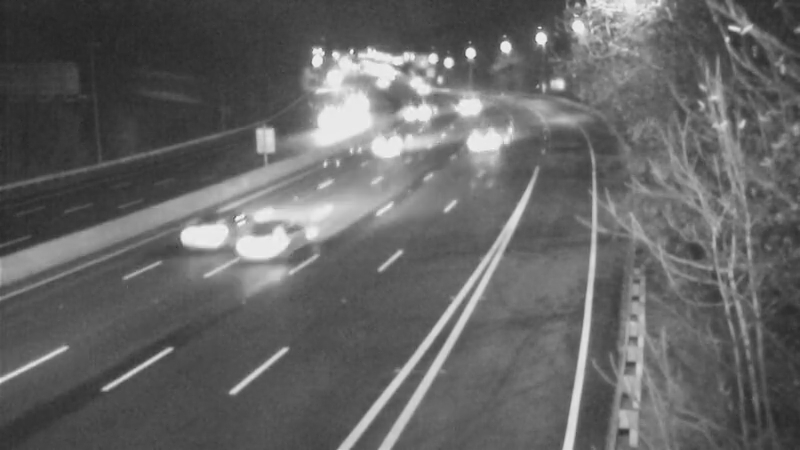vehicle: (218, 204, 298, 284), (164, 195, 244, 275), (440, 79, 490, 129), (390, 84, 440, 134), (460, 114, 510, 164), (361, 120, 411, 170)
